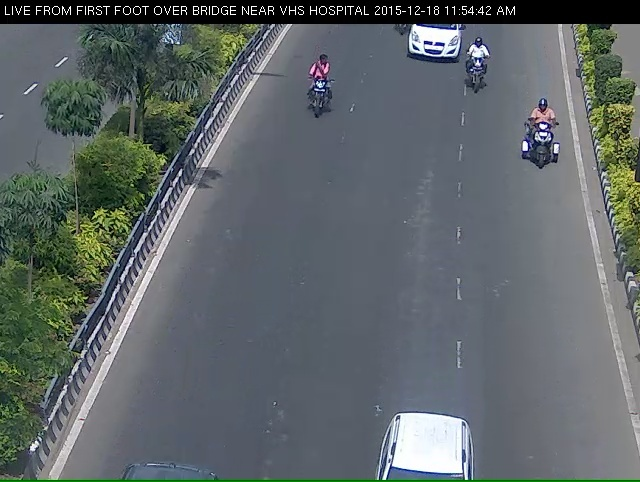Car: (405, 19, 462, 70)
Person: (512, 108, 569, 196), (293, 61, 343, 140), (462, 43, 495, 105)
